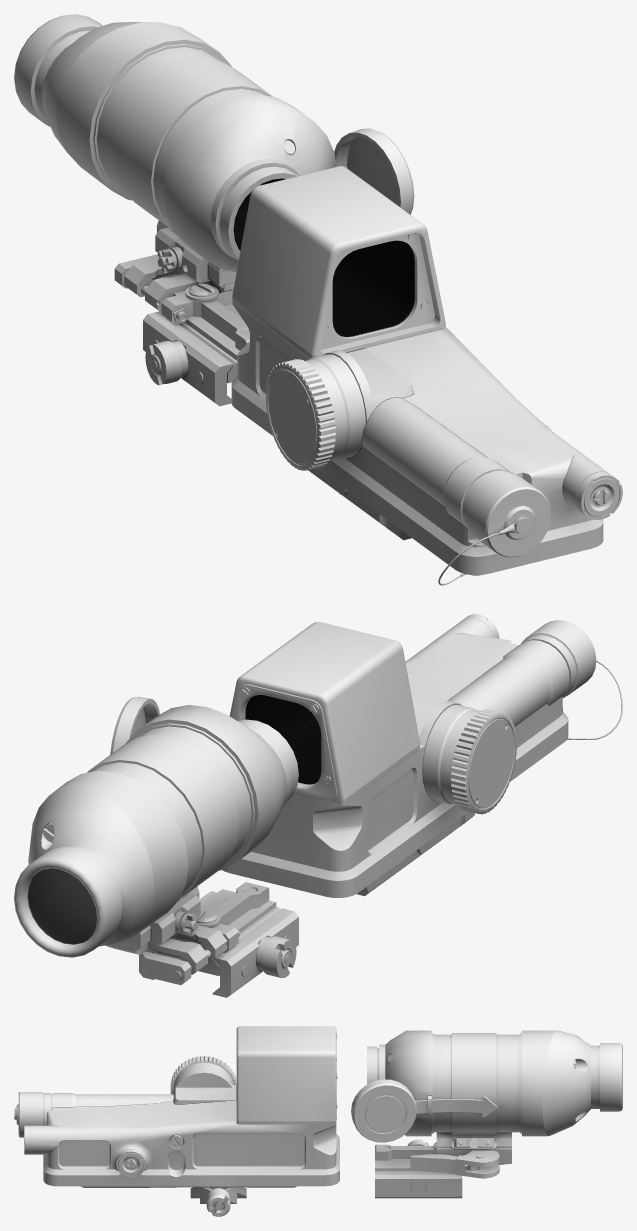
3 renders of one model, top to bottom at view 1: azimuth 30°, elevation 25°; view 2: azimuth 150°, elevation 25°; view 3: azimuth 270°, elevation 25°, orthographic. The views are drawn at different scales.
Parts seen in each view (by area): view 1: 3DGeom-6, 3DGeom-14, 3DGeom-17, 3DGeom-30, 3DGeom-40_2, 3DGeom-9, 3DGeom-2, 3DGeom-23, 3DGeom-32_2, 3DGeom-21, 3DGeom-16, 3DGeom-38_2 (+2 smaller); view 2: 3DGeom-6, 3DGeom-14, 3DGeom-17, 3DGeom-40_2, 3DGeom-30, 3DGeom-9, 3DGeom-23, Mesh10_2_M_0066_Honeydew_0, 3DGeom-32_2, 3DGeom-21, 3DGeom-2, 3DGeom-38_2 (+3 smaller); view 3: 3DGeom-14, 3DGeom-6, 3DGeom-17, 3DGeom-9, 3DGeom-2, 3DGeom-30, 3DGeom-20, 3DGeom-3, 3DGeom-23, 3DGeom-5, 3DGeom-40_2, 3DGeom-12 (+5 smaller).
Part boxes in pixels (x1,y1,x2,y2): 3DGeom-6: [14, 14, 336, 272]; 3DGeom-14: [231, 301, 608, 575]; 3DGeom-17: [232, 166, 445, 358]; 3DGeom-30: [361, 397, 551, 557]; 3DGeom-40_2: [265, 354, 366, 470]; 3DGeom-9: [114, 59, 273, 272]; 3DGeom-2: [334, 128, 414, 214]; 3DGeom-23: [114, 254, 249, 360]; 3DGeom-32_2: [143, 311, 233, 406]; 3DGeom-21: [124, 258, 234, 312]; 3DGeom-16: [576, 471, 622, 519]; 3DGeom-38_2: [145, 340, 188, 385]; 3DGeom-6: [14, 705, 298, 957]; 3DGeom-14: [222, 617, 568, 897]; 3DGeom-17: [229, 622, 419, 803]; 3DGeom-40_2: [422, 704, 516, 814]; 3DGeom-30: [447, 620, 596, 726]; 3DGeom-9: [87, 734, 239, 935]; 3DGeom-23: [142, 882, 276, 985]; Mesh10_2_M_0066_Honeydew_0: [28, 868, 96, 944]; 3DGeom-32_2: [212, 908, 298, 997]; 3DGeom-21: [105, 925, 227, 974]; 3DGeom-2: [110, 696, 159, 754]; 3DGeom-38_2: [256, 936, 296, 977]; 3DGeom-14: [30, 1070, 339, 1186]; 3DGeom-6: [367, 1030, 622, 1136]; 3DGeom-17: [236, 1026, 337, 1124]; 3DGeom-9: [436, 1033, 511, 1149]; 3DGeom-2: [351, 1079, 416, 1142]; 3DGeom-30: [14, 1092, 173, 1137]; 3DGeom-20: [375, 1171, 462, 1198]; 3DGeom-3: [410, 1149, 499, 1178]; 3DGeom-23: [375, 1144, 503, 1171]; 3DGeom-5: [415, 1096, 497, 1117]; 3DGeom-40_2: [170, 1055, 236, 1094]; 3DGeom-12: [116, 1149, 145, 1177].
Size of what is drawn, in the model's own units: 0.6303 by 0.6354 by 2.23.
Materials: 3 (1 with a texture image).
